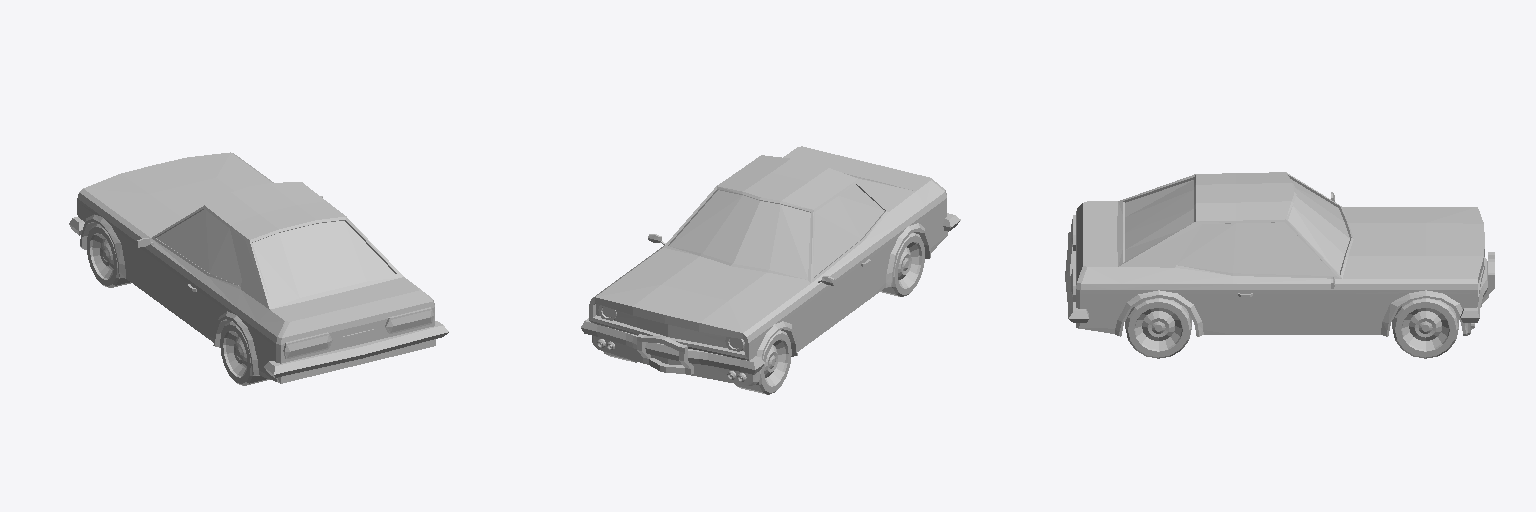
The model's file is bandidaoCar.obj.
3 views of the same model, side by side, from view 1: azimuth 30°, elevation 25°; view 2: azimuth 150°, elevation 25°; view 3: azimuth 270°, elevation 25° (orthographic).
Visible parts, largest first — view 1: the_bandidao; view 2: the_bandidao; view 3: the_bandidao.
Part boxes in pixels (x1,y1,x2,y2): the_bandidao: (69,152,448,385); the_bandidao: (581,146,960,394); the_bandidao: (1065,172,1494,358).
Size of the model in its own units: 1.97 by 1.3 by 3.96.